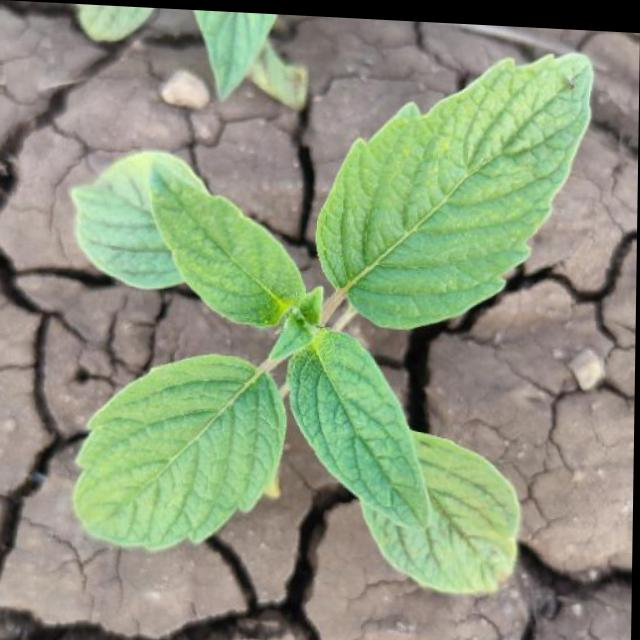crop: (56, 35, 585, 591)
